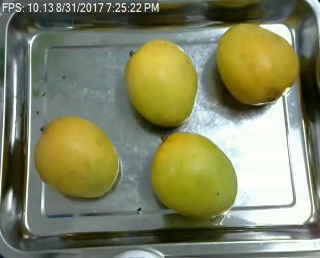Mango: (150, 135, 236, 217), (215, 24, 297, 106), (35, 117, 117, 198), (126, 41, 195, 126)
